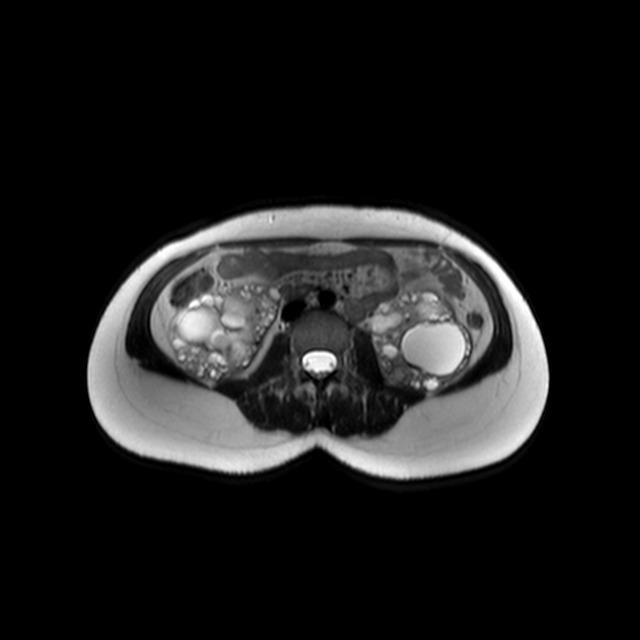sag: (166, 280, 284, 383)
sol: (368, 286, 474, 392)
